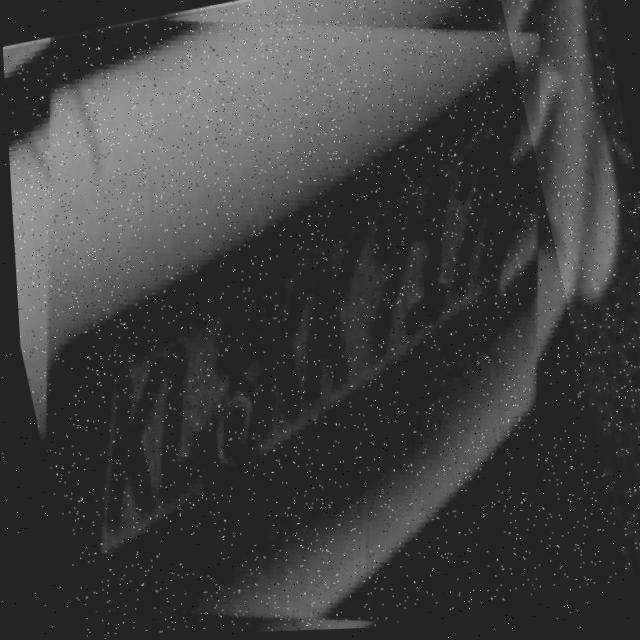LicensePlate: (0, 0, 622, 640)
